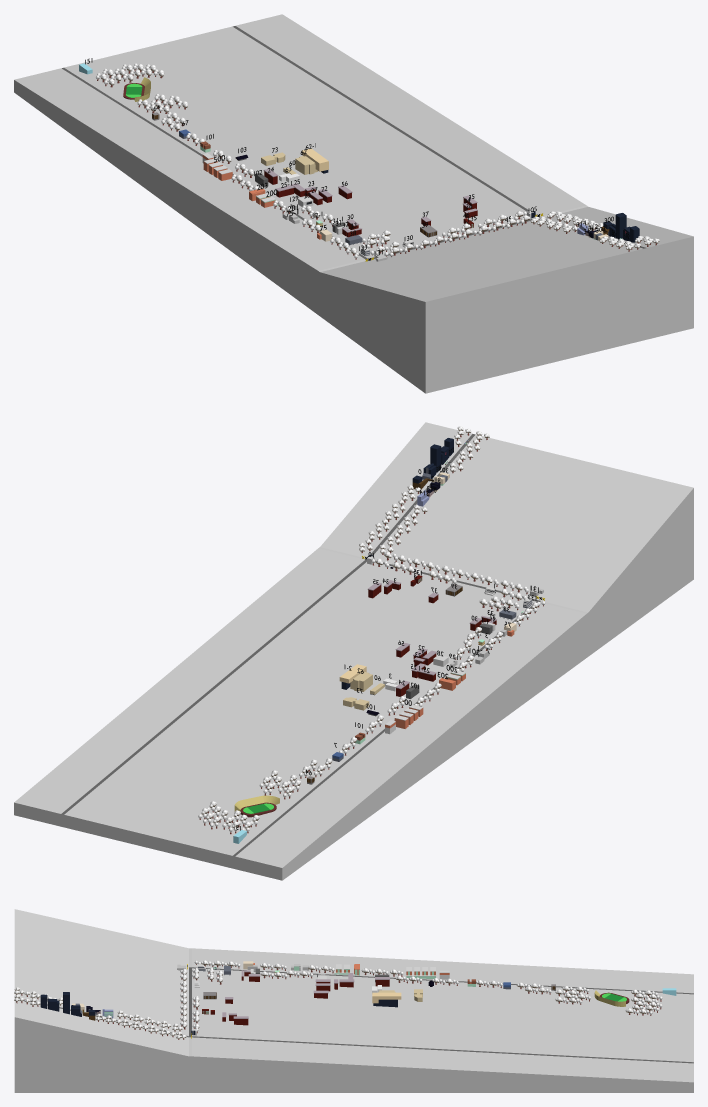
File: modified_tree_2 (1).fbx
The picture shows the model from 3 angles, top to bottom: view 1: azimuth 30°, elevation 25°; view 2: azimuth 150°, elevation 25°; view 3: azimuth 270°, elevation 25°; orthographic projection. The views are drawn at different scales.
Parts seen in each view (by area): view 1: 00_Terrain; view 2: 00_Terrain, PlayGround; view 3: 00_Terrain, Bldg_062-1, Bldg_500, PlayGround.
Part boxes in pixels (x1=…): 00_Terrain: x1=14, y1=14, x2=693, y2=393; 00_Terrain: x1=14, y1=422, x2=693, y2=880; PlayGround: x1=234, y1=795, x2=279, y2=817; 00_Terrain: x1=14, y1=909, x2=693, y2=1092; Bldg_062-1: x1=372, y1=992, x2=401, y2=1007; Bldg_500: x1=406, y1=967, x2=449, y2=979; PlayGround: x1=594, y1=990, x2=629, y2=1006.
Bounding box in the file's own units: 61597 × 21985 × 163771.
